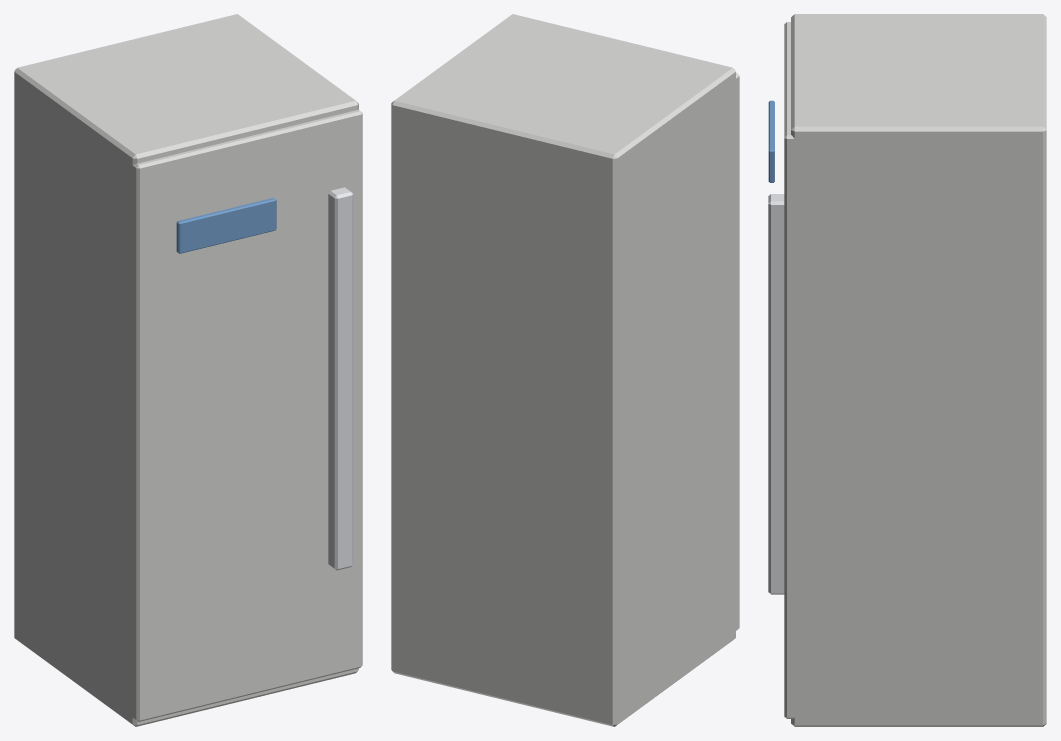
3 renders of one model, left to right at view 1: azimuth 30°, elevation 25°; view 2: azimuth 150°, elevation 25°; view 3: azimuth 270°, elevation 25°, orthographic. The views are drawn at different scales.
Visible parts, largest first — view 1: fridge-door/white, kitchen-fridge, fridge-door/metal, fridge-door/blue; view 2: kitchen-fridge, fridge-door/white; view 3: kitchen-fridge, fridge-door/white, fridge-door/metal, fridge-door/blue.
Boxes of the visible parts, <box> form: fridge-door/white: <box>128,109,362,721</box>; kitchen-fridge: <box>14,14,358,726</box>; fridge-door/metal: <box>328,187,353,570</box>; fridge-door/blue: <box>176,198,276,253</box>; kitchen-fridge: <box>391,14,735,726</box>; fridge-door/white: <box>731,73,739,633</box>; kitchen-fridge: <box>791,14,1046,726</box>; fridge-door/white: <box>784,22,804,718</box>; fridge-door/metal: <box>768,194,784,594</box>; fridge-door/blue: <box>768,100,774,182</box>.
Bounding box in the file's own units: 0.6001 × 1.45 × 0.61.
